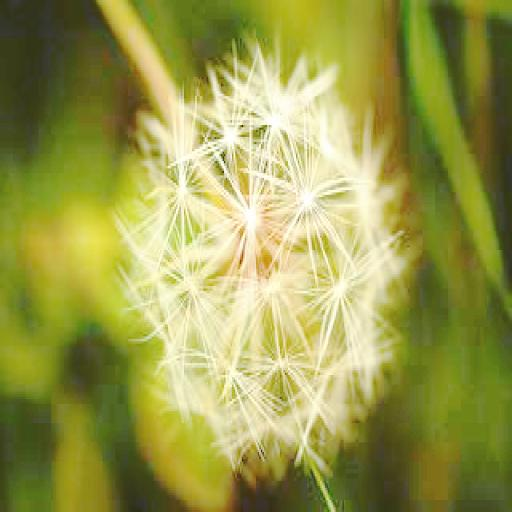dandelion: (122, 41, 416, 483)
